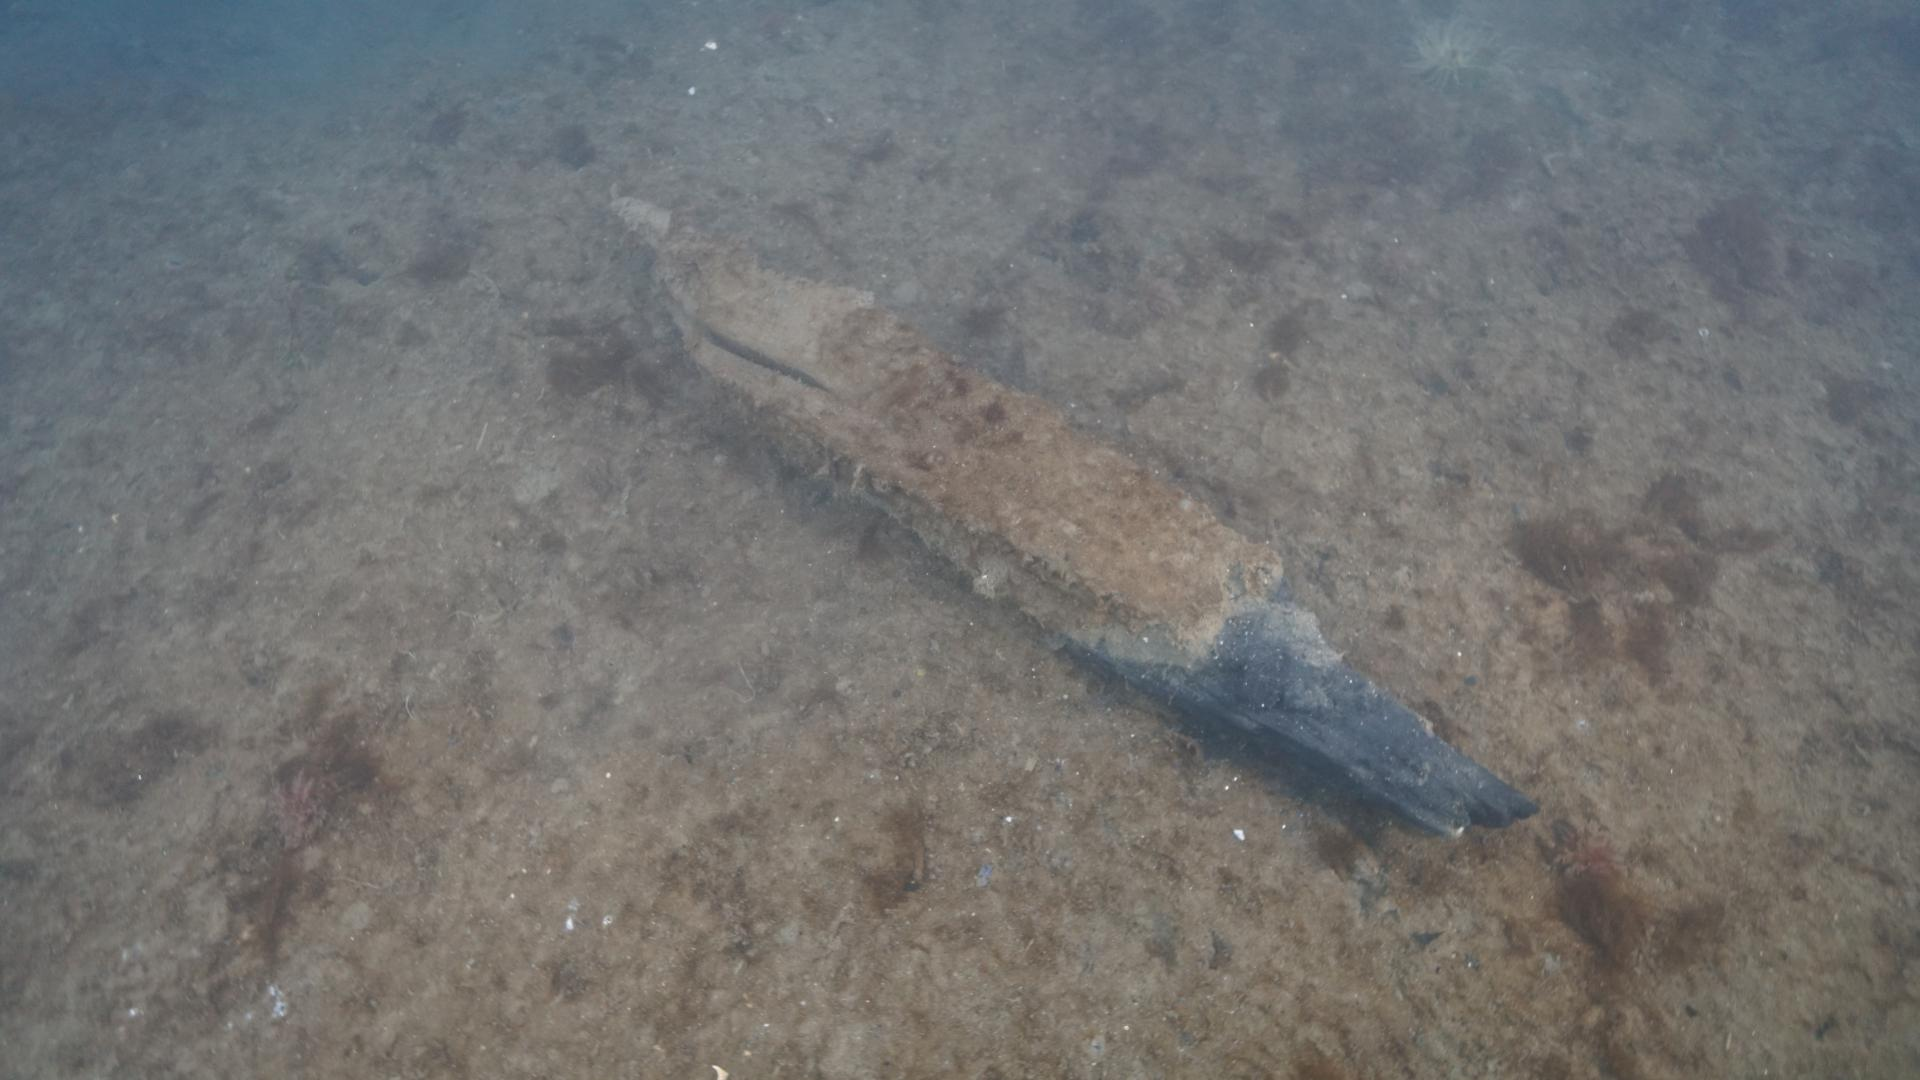wood: (604, 181, 1539, 836)
